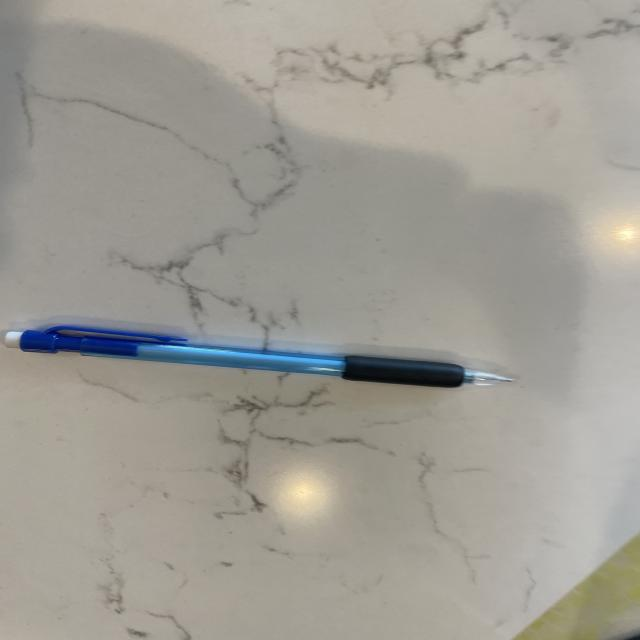mechanical-pencils: (4, 324, 513, 388)
